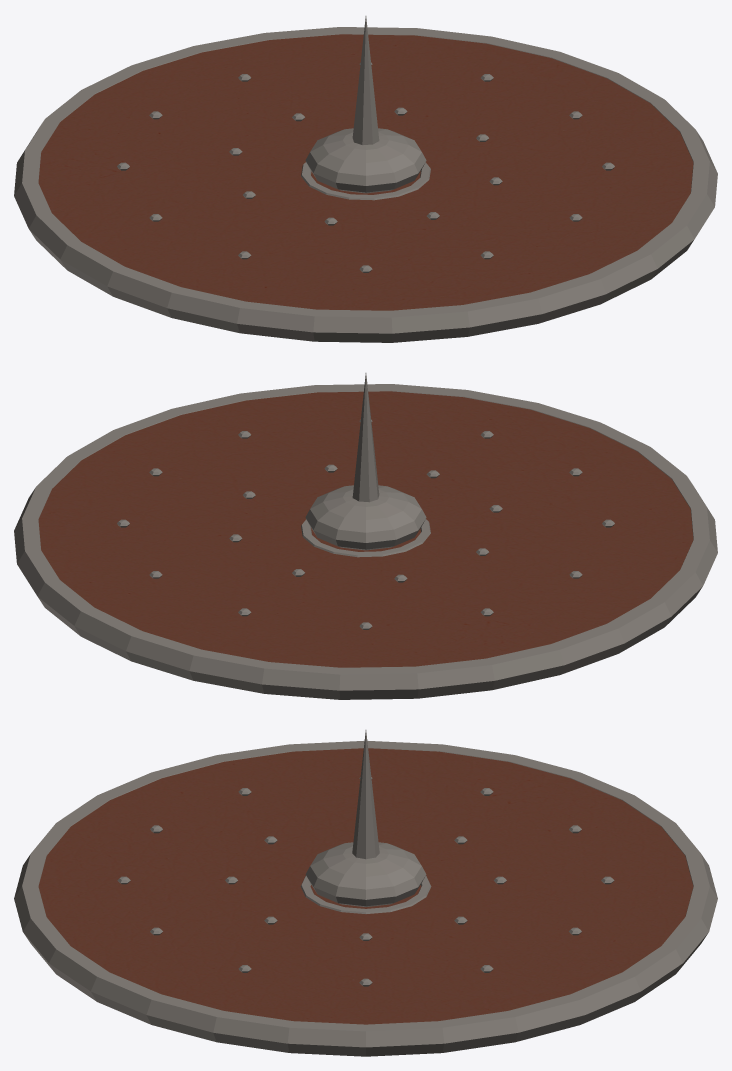
Rendered from targe.glb.
3 renders of one model, top to bottom at view 1: azimuth 30°, elevation 25°; view 2: azimuth 150°, elevation 25°; view 3: azimuth 270°, elevation 25°, orthographic.
Visible parts, largest first — view 1: targe; view 2: targe; view 3: targe.
Part boxes in pixels (x1,y1,x2,y2): targe: [14, 16, 717, 342]; targe: [14, 373, 717, 699]; targe: [14, 730, 717, 1056].
Size of the model in its own units: 0.524 by 0.167 by 0.524.
Materials: 2 (1 with a texture image).
